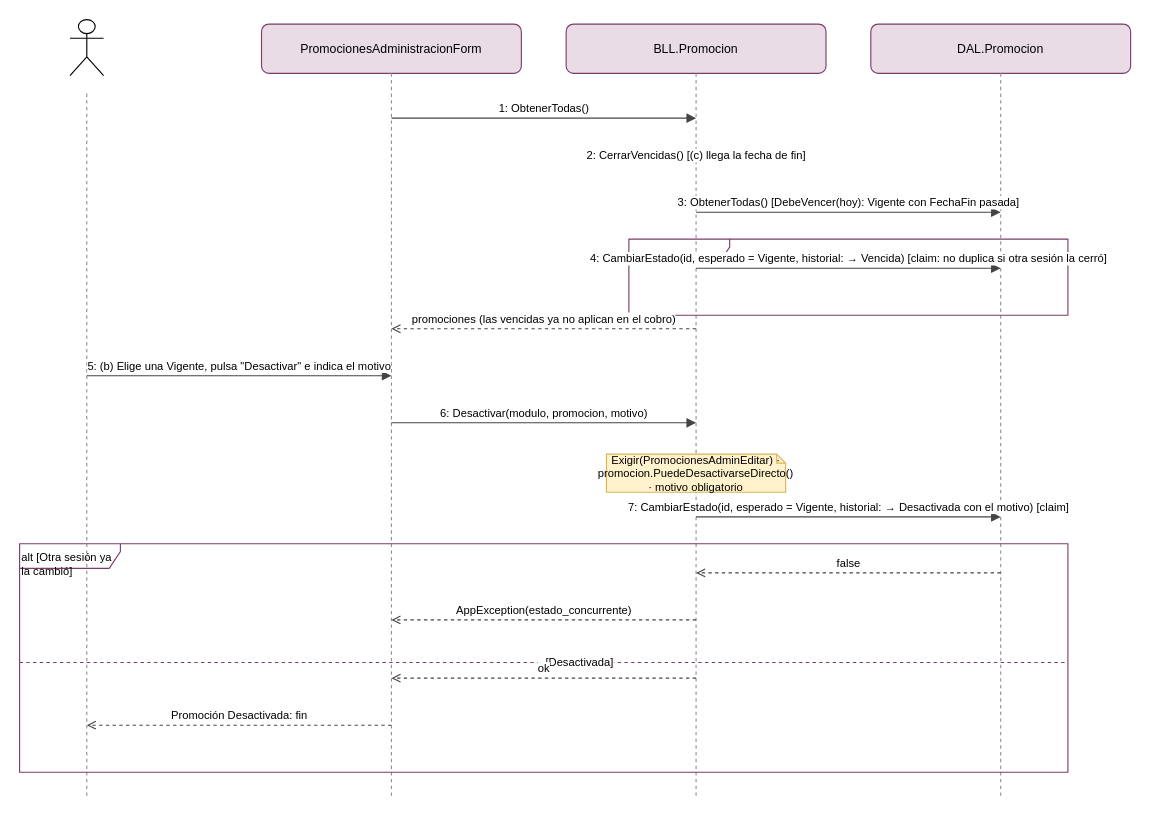
The diagram is 1150 pixels wide and 818 high, and some of its shapes have lost their labels. The centre of each missing label's shape, as x and y in pixels:
Administración: (86,47)
opt [Por cada vencida]: (848,276)
